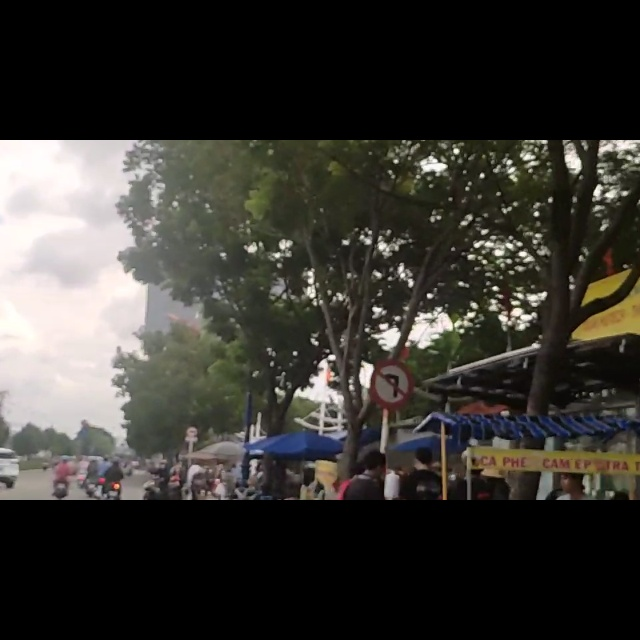bien_cam: (373, 392, 410, 469)
